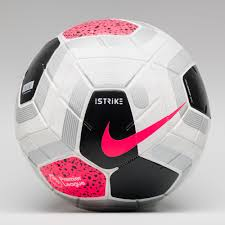football: (13, 18, 215, 213)
